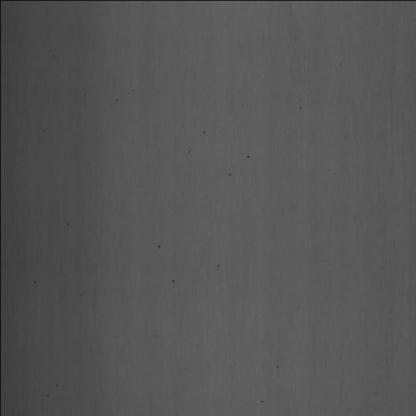inclusion: (242, 136, 262, 166), (222, 161, 236, 190), (210, 253, 226, 275), (29, 269, 41, 295), (198, 118, 213, 137), (168, 271, 182, 290), (150, 235, 163, 254), (62, 216, 73, 236), (257, 396, 269, 411), (271, 355, 279, 375)
